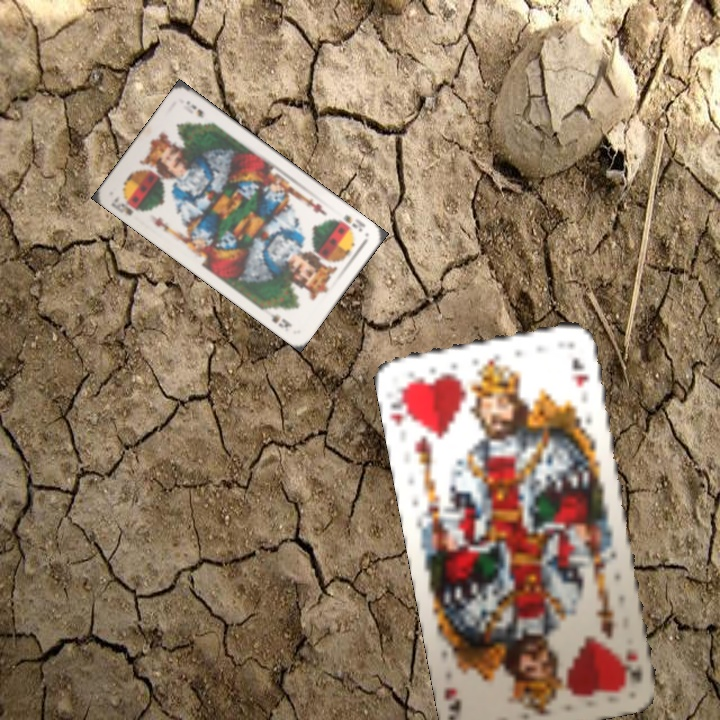HK: (385, 377, 416, 429), (622, 645, 646, 686)
SK: (107, 192, 136, 218), (339, 210, 368, 235)
